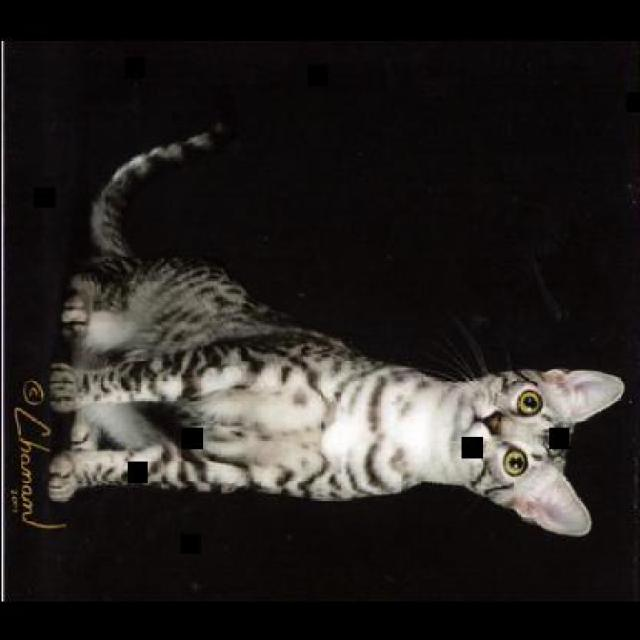unauthorized: (45, 118, 624, 537)
